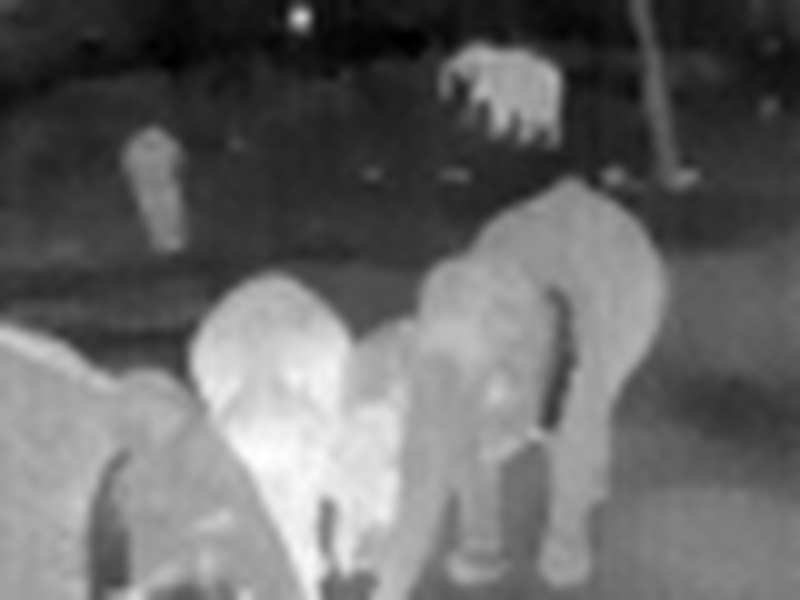elephant: (1, 41, 696, 600)
